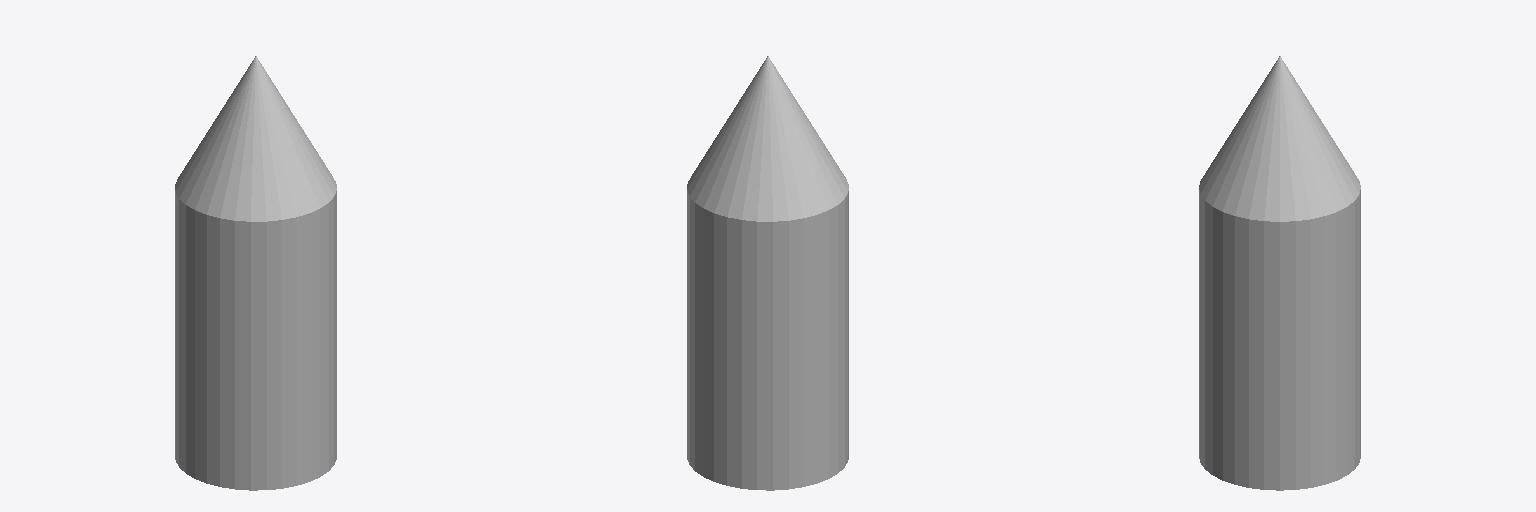
File: bullet1.obj
3 views of the same model, side by side, from view 1: azimuth 30°, elevation 25°; view 2: azimuth 150°, elevation 25°; view 3: azimuth 270°, elevation 25° (orthographic).
Visible parts, largest first — view 1: Cone; view 2: Cone; view 3: Cone.
Boxes of the visible parts, <box> form: Cone: <box>175,56,336,490</box>; Cone: <box>687,56,848,490</box>; Cone: <box>1199,56,1360,490</box>.
Size of the model in its own units: 0.483 by 1.32 by 0.483.